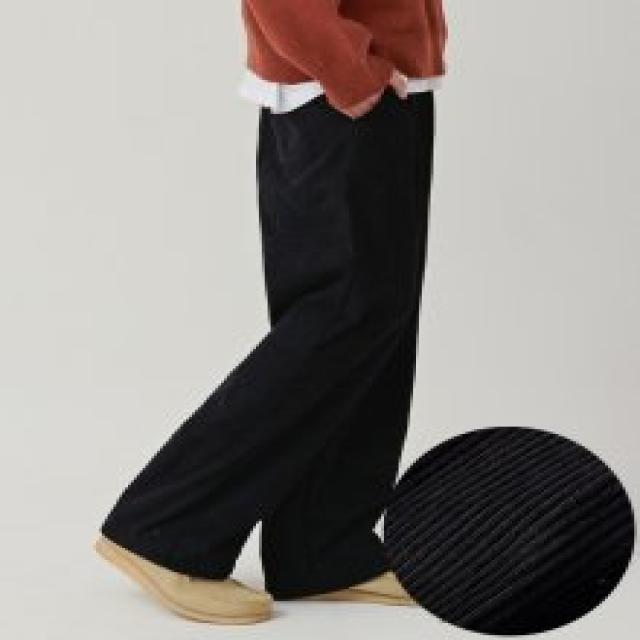long-pants: (99, 90, 434, 599)
